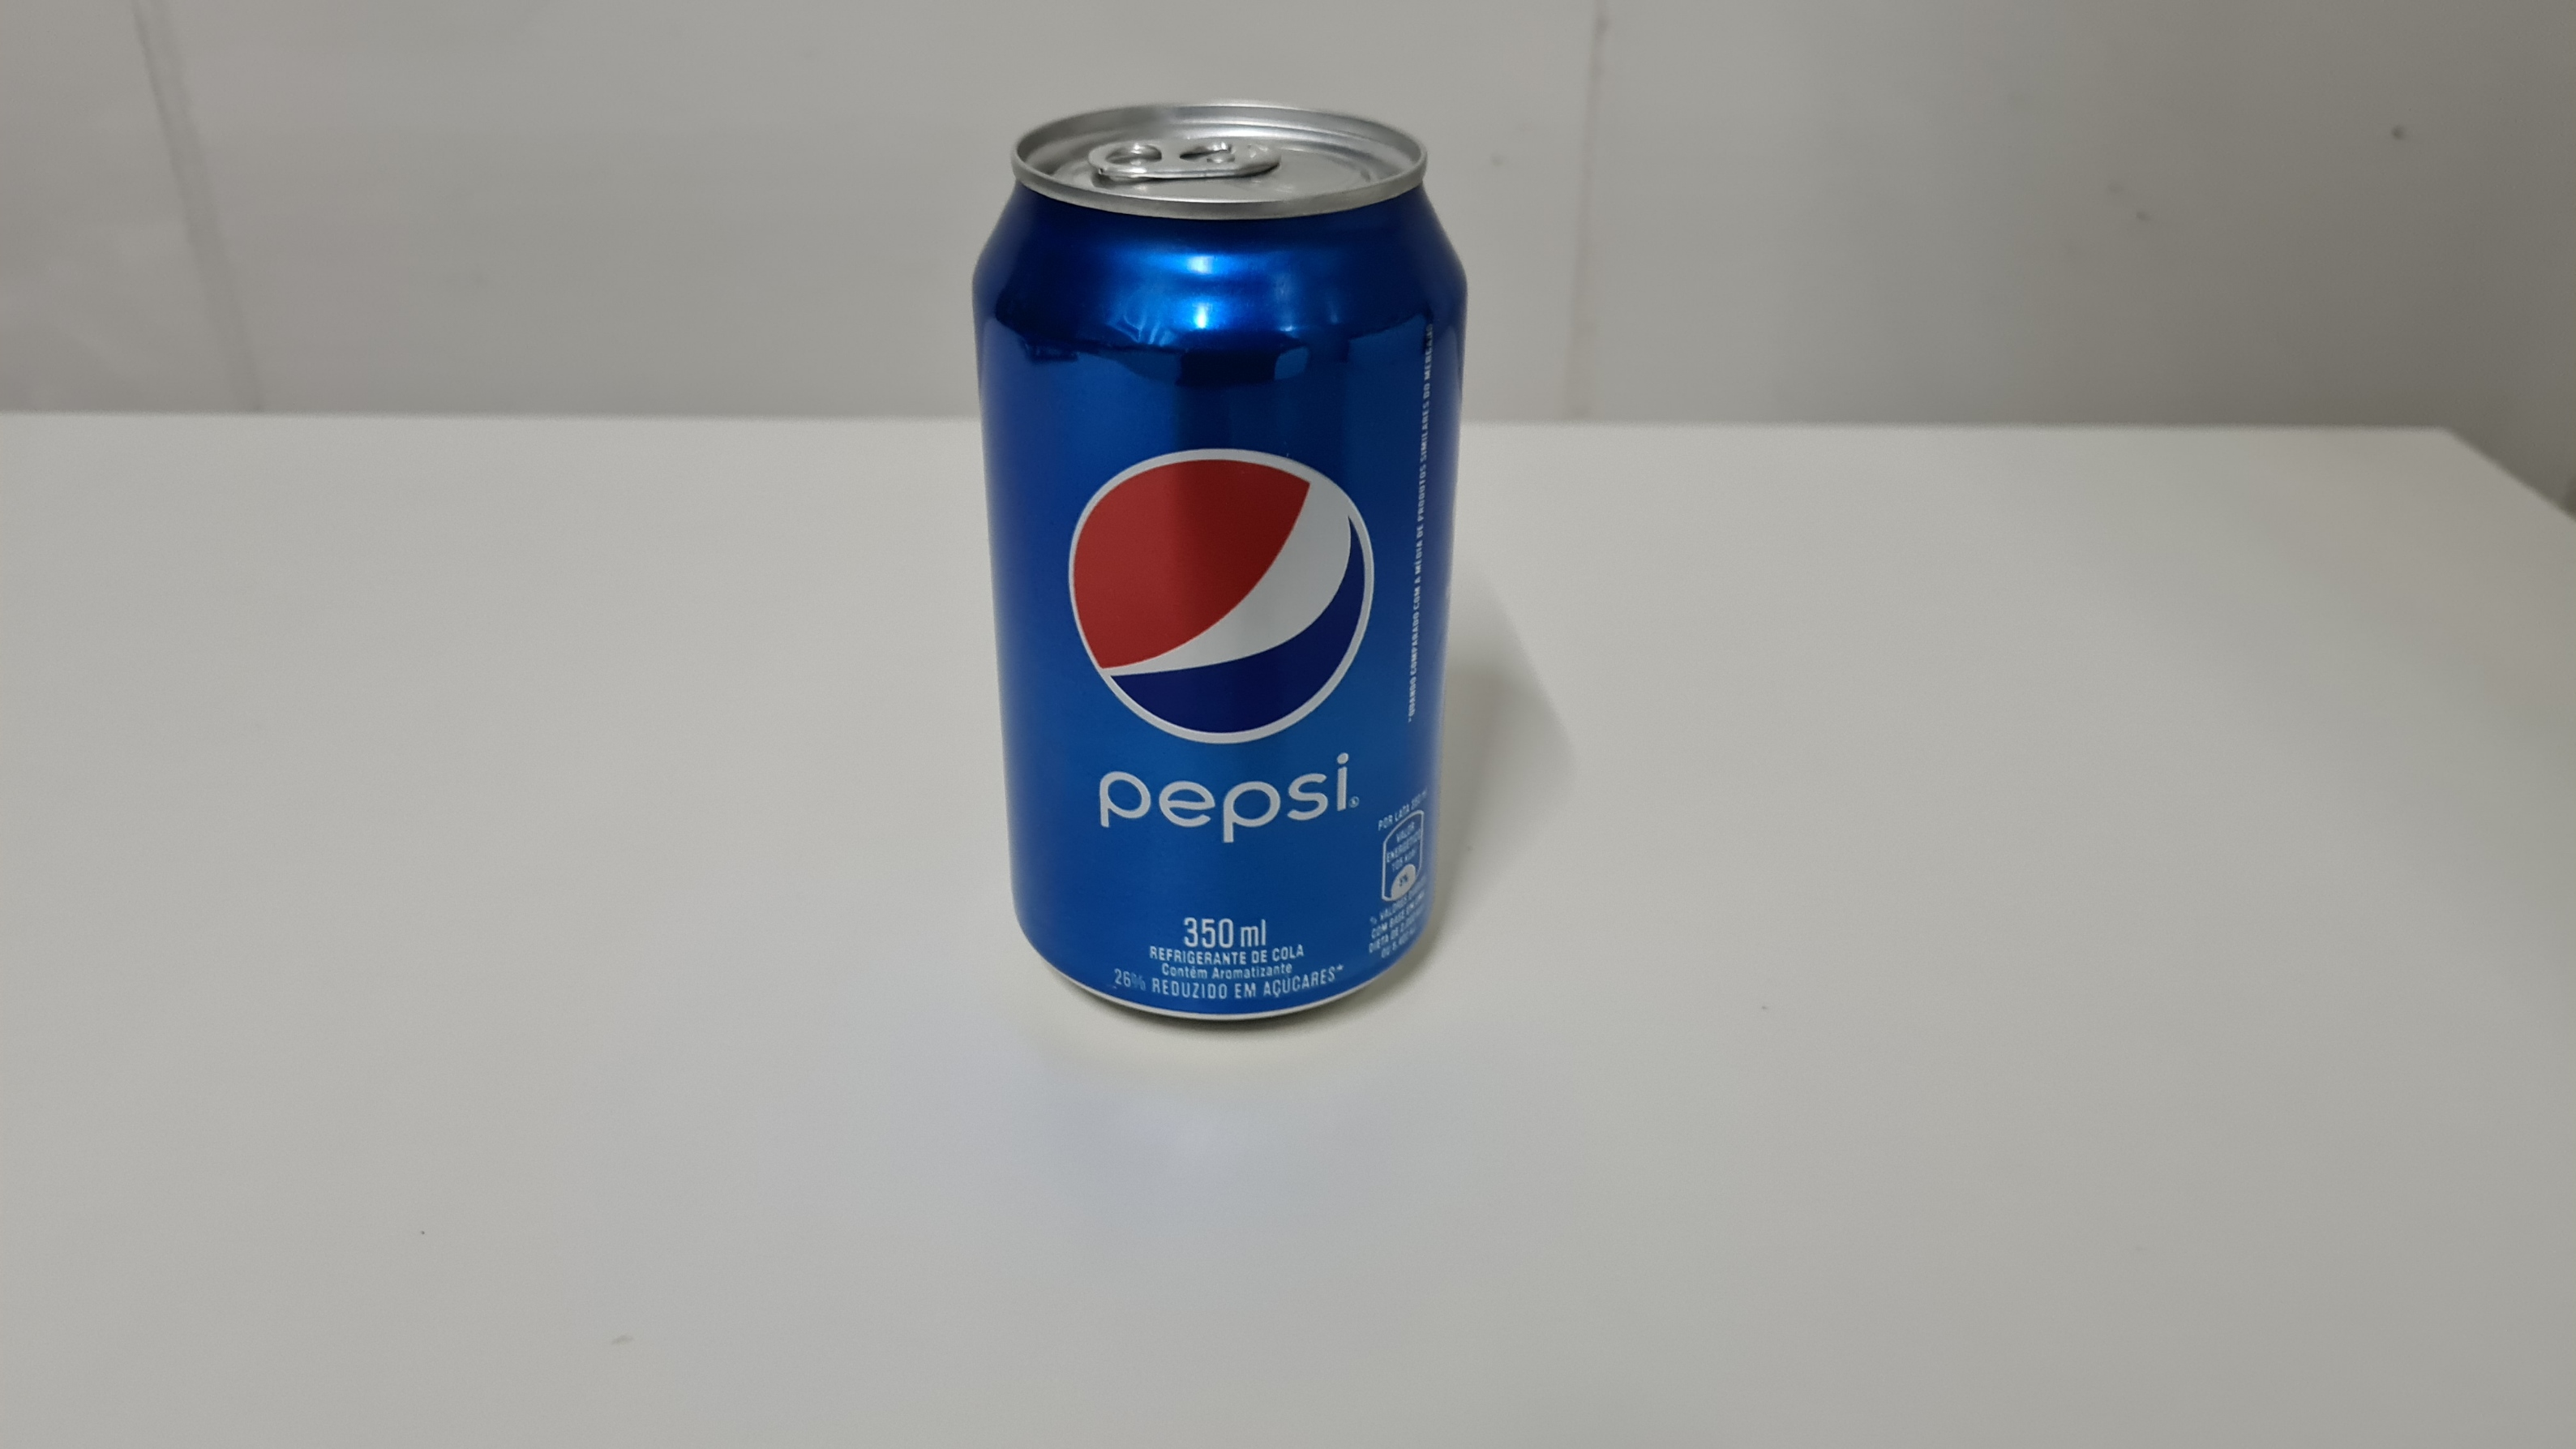Soda can: (957, 91, 1488, 1048)
